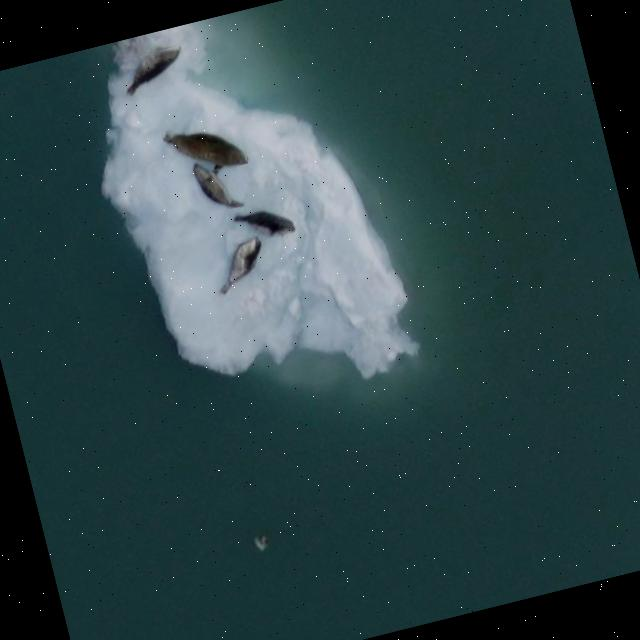seal: (160, 110, 252, 184), (118, 39, 184, 96), (186, 156, 245, 217), (217, 228, 266, 300), (231, 200, 298, 243)
